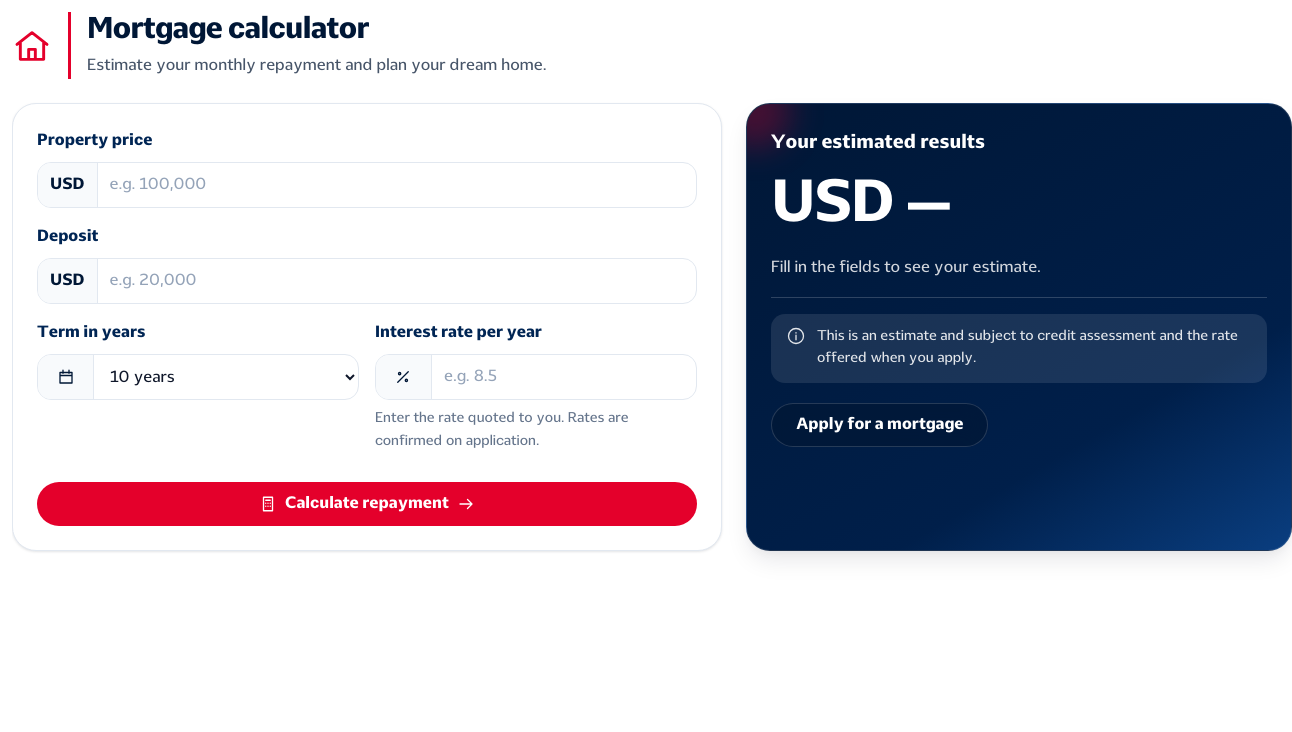
Test: <Calculator> › shows a repayment once price, term and rate are entered
The image size is (1292, 732).
In the field labelled "Property price": (397, 185) [98, 163, 696, 207], type "100000"
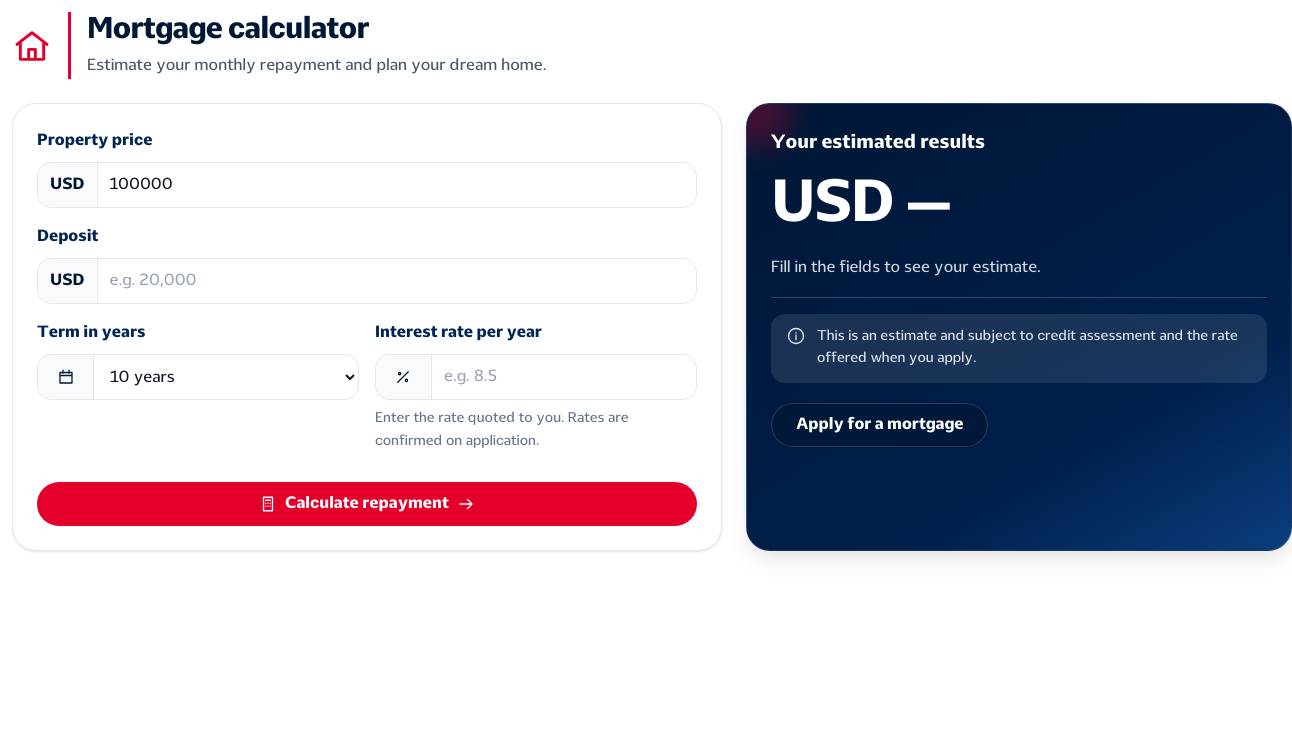
Select "10 years" in the dropdown labelled "Term in years": (226, 377) [94, 355, 358, 399]
In the field labelled "Interest rate per year": (564, 377) [432, 355, 696, 399], type "12"
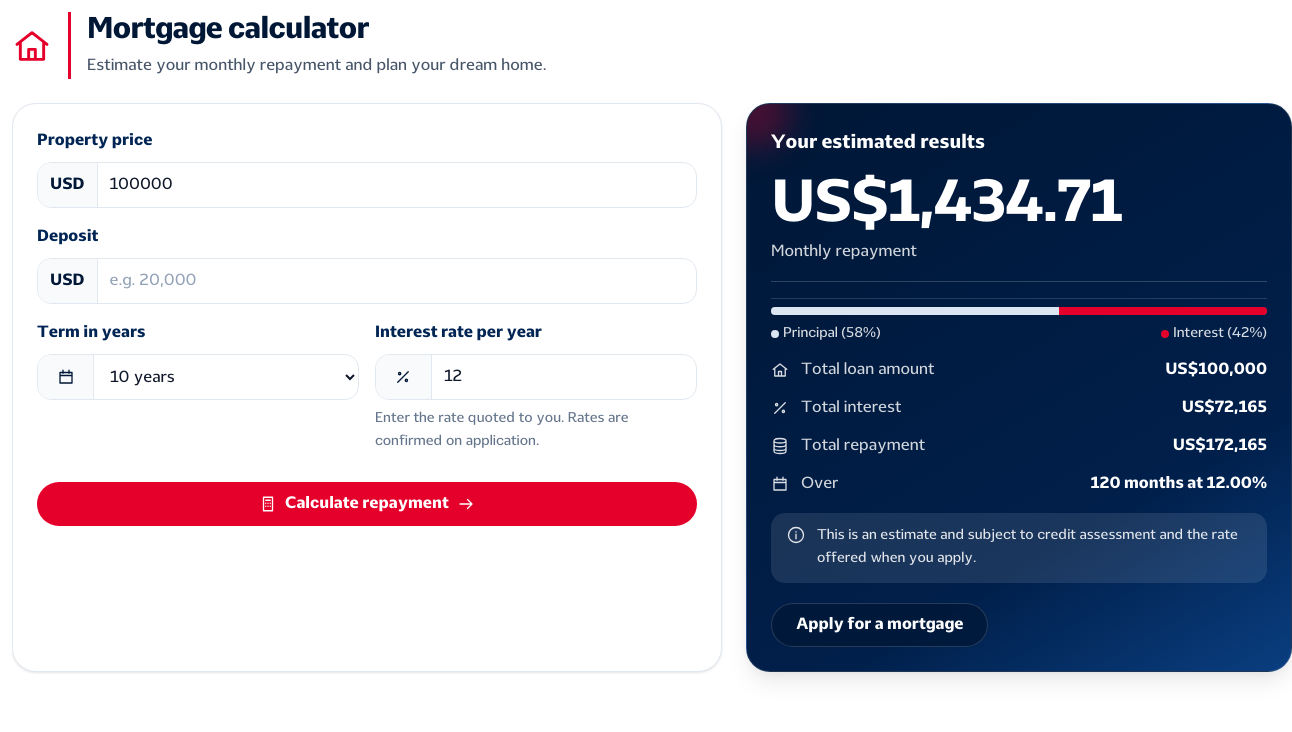
Check: the text "Monthly repayment" is shown, box [771, 242, 917, 260]
